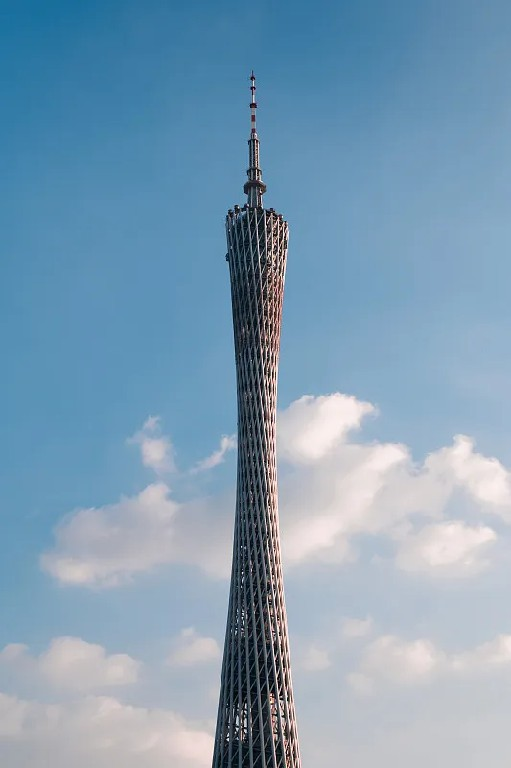Canton: (201, 65, 309, 768)
